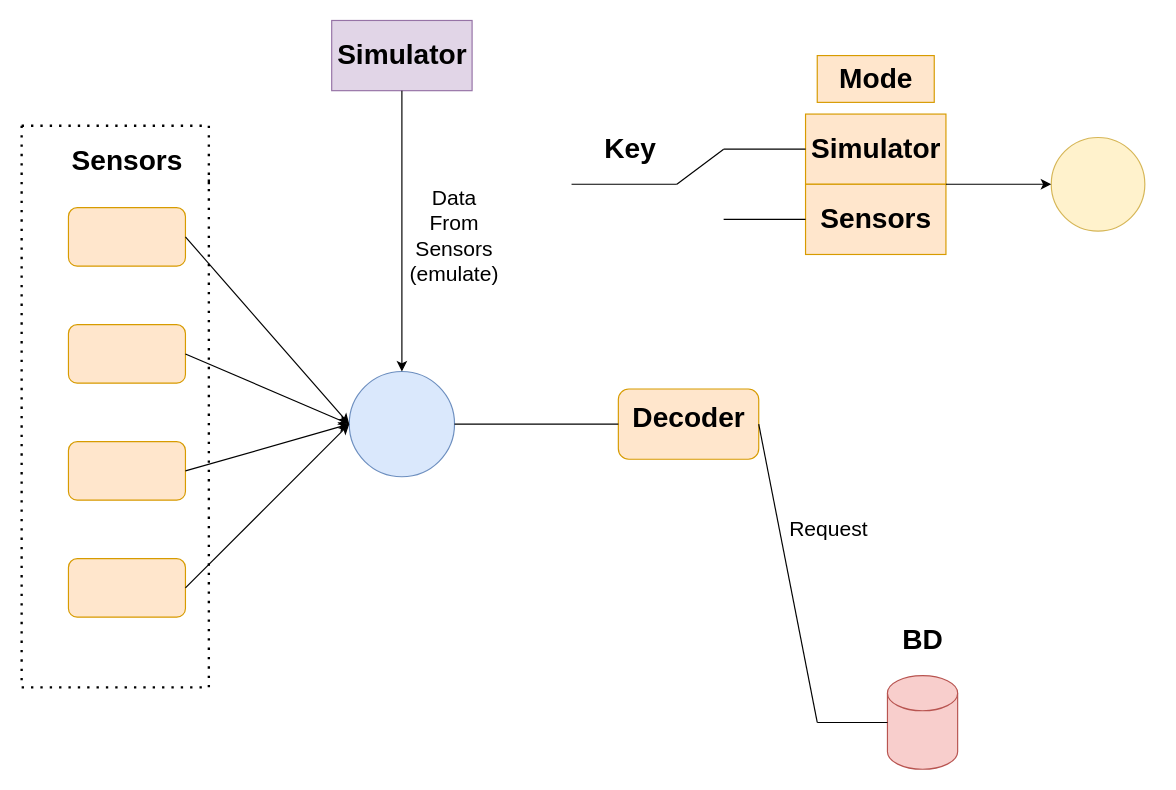
Some shapes in this 1176 by 790 pixel diagram are drawn without their labels. The centre of each missing label's shape, as x and y in pixels:
App: (x=1097, y=183)
Reader: (x=401, y=423)
